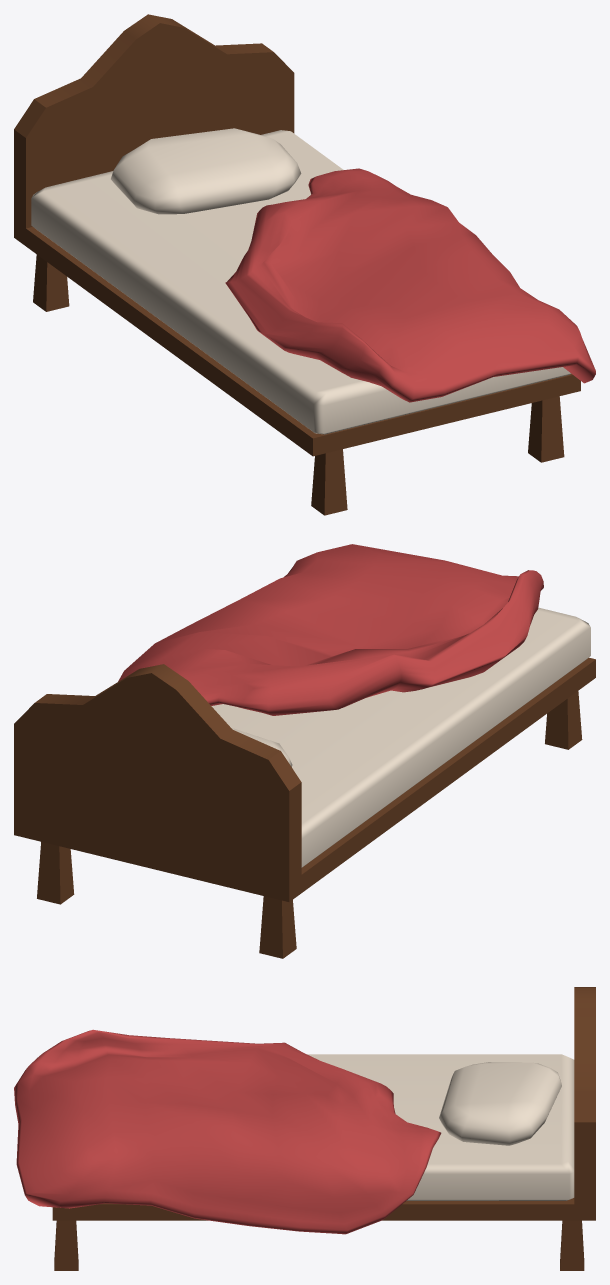
The model's file is bed.fbx.
The picture shows the model from 3 angles, top to bottom: view 1: azimuth 30°, elevation 25°; view 2: azimuth 150°, elevation 25°; view 3: azimuth 270°, elevation 25°; orthographic projection. The views are drawn at different scales.
Parts seen in each view (by area): view 1: polySurface9, polySurface6, polySurface5, polySurface8, polySurface7, polySurface1, polySurface2, polySurface3; view 2: polySurface9, polySurface5, polySurface6, polySurface8, polySurface3, polySurface4, polySurface2; view 3: polySurface9, polySurface6, polySurface7, polySurface8, polySurface5, polySurface1, polySurface4.
Boxes of the visible parts, x1=… form: polySurface9: x1=225, y1=168, x2=595, y2=402; polySurface6: x1=31, y1=130, x2=571, y2=434; polySurface5: x1=14, y1=14, x2=294, y2=228; polySurface8: x1=14, y1=220, x2=580, y2=456; polySurface7: x1=111, y1=128, x2=301, y2=214; polySurface1: x1=528, y1=396, x2=564, y2=462; polySurface2: x1=311, y1=449, x2=347, y2=515; polySurface3: x1=33, y1=254, x2=69, y2=311; polySurface9: x1=118, y1=544, x2=543, y2=715; polySurface5: x1=14, y1=664, x2=301, y2=883; polySurface6: x1=211, y1=607, x2=590, y2=867; polySurface8: x1=14, y1=657, x2=595, y2=901; polySurface3: x1=259, y1=896, x2=296, y2=958; polySurface4: x1=37, y1=842, x2=74, y2=904; polySurface2: x1=545, y1=691, x2=582, y2=749; polySurface9: x1=14, y1=1029, x2=441, y2=1234; polySurface6: x1=307, y1=1054, x2=574, y2=1200; polySurface7: x1=439, y1=1062, x2=561, y2=1145; polySurface8: x1=52, y1=1198, x2=595, y2=1220; polySurface5: x1=574, y1=987, x2=595, y2=1204; polySurface1: x1=54, y1=1220, x2=78, y2=1270; polySurface4: x1=560, y1=1220, x2=584, y2=1270.
Size of the model in its own units: 106 by 83.84 by 192.
